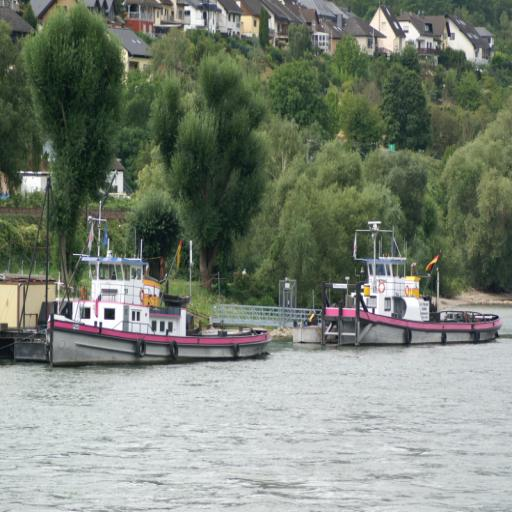tugboat: (44, 211, 271, 376), (315, 215, 505, 355)
